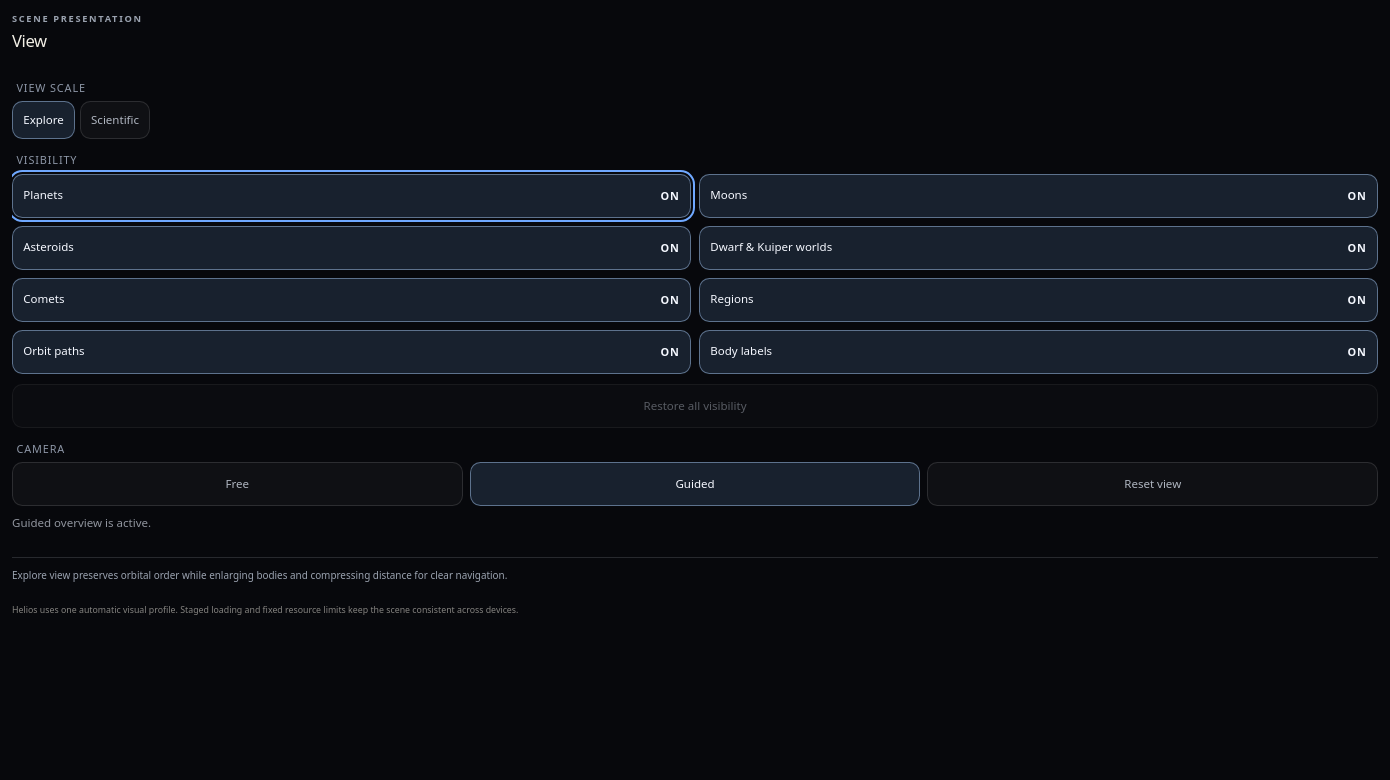
Scenario: ViewControls visibility section › exposes compact semantic visibility controls and restores the default
Expected: the button "Restore all visibility" is disabled, 12,384 -> 1378,428
Click the button with aria-label "Planets: visible" at [43, 195], box 12,174 -> 691,218
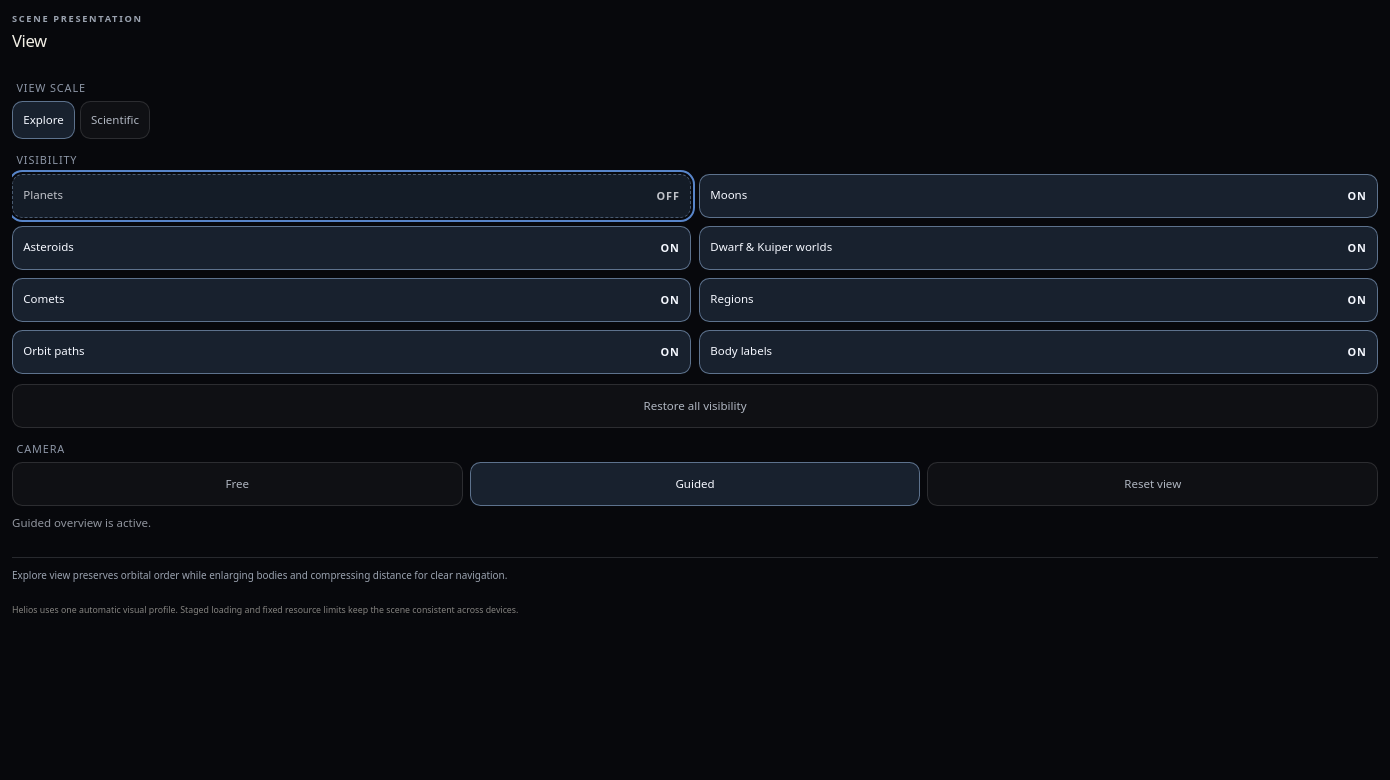
Expected: the text "Off" is shown, 656,189 -> 680,202
Expected: the button "Restore all visibility" is enabled
Click the button "Restore all visibility" at [695, 406], box 12,384 -> 1378,428
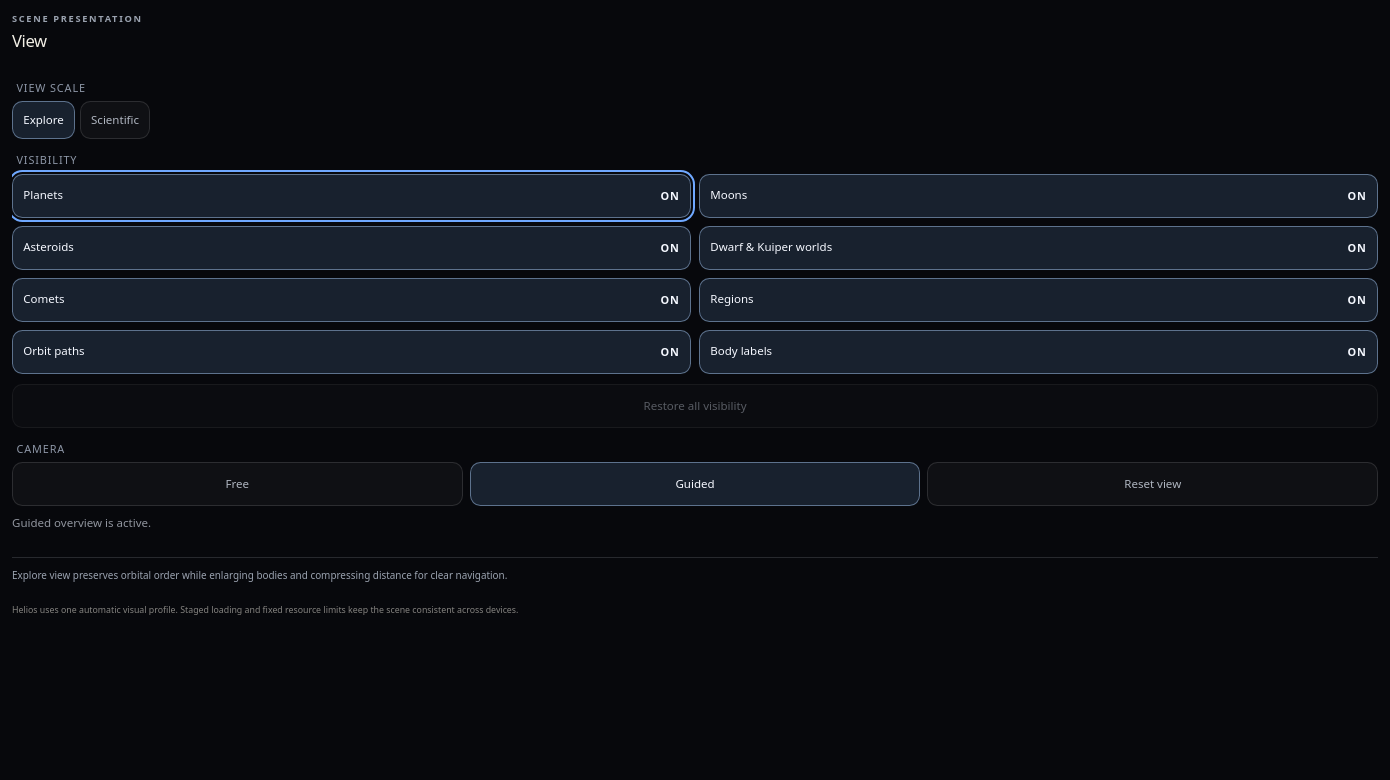
Expected: the button "Restore all visibility" is disabled, 12,384 -> 1378,428
